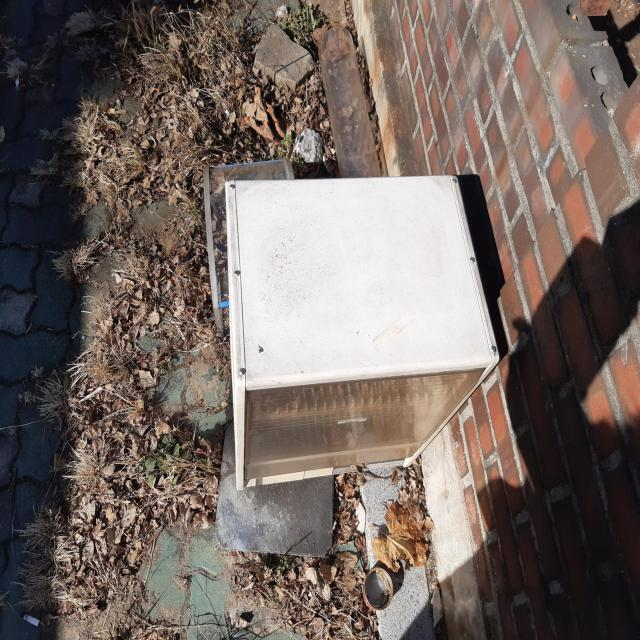refrigerator: (223, 173, 504, 497)
